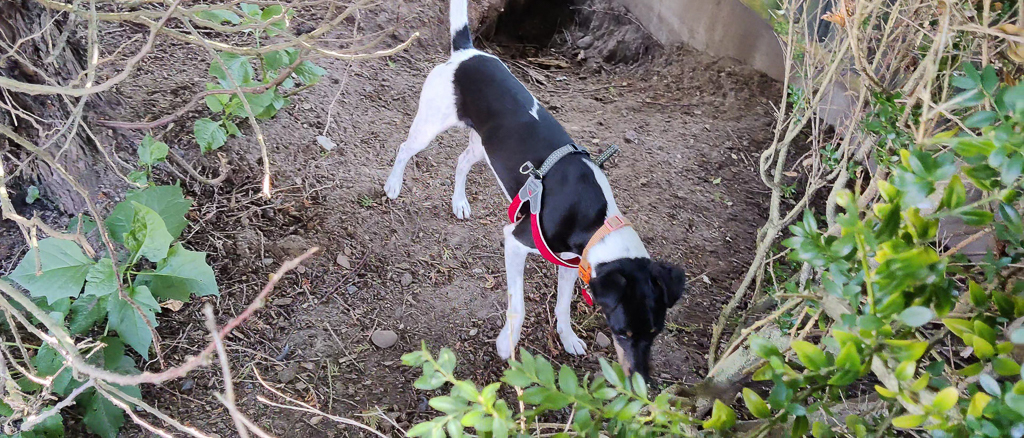Dog: (375, 0, 694, 405)
